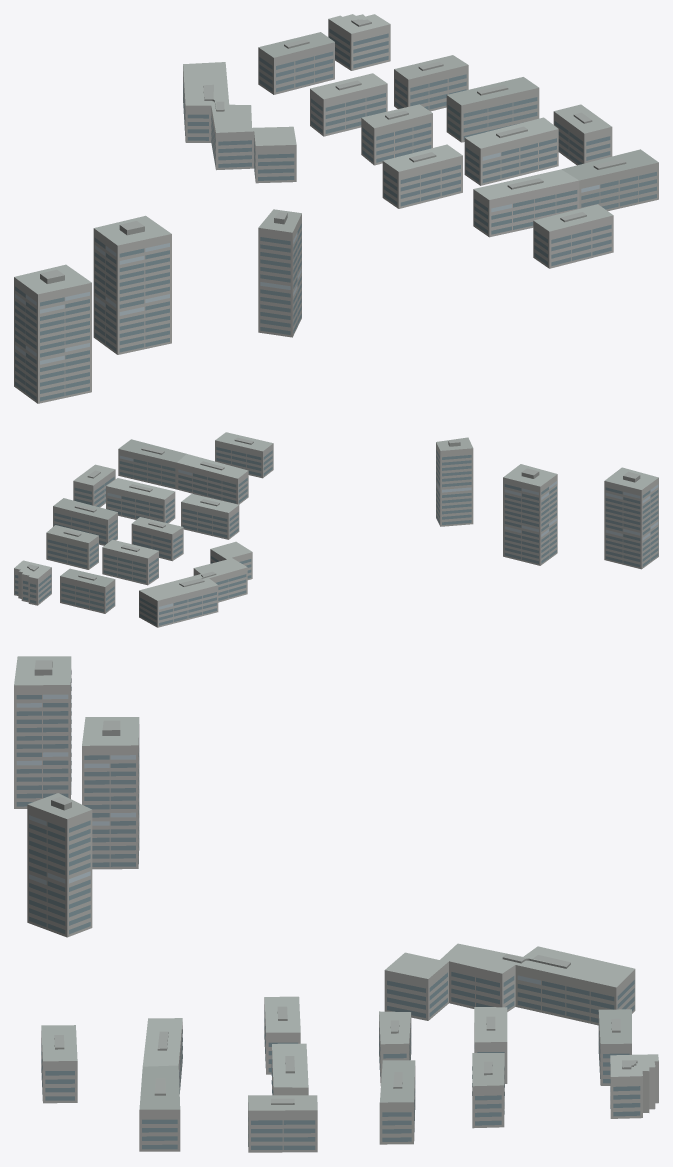
File: apt-a41279918.glb
3 views of the same model, one above another, from view 1: azimuth 30°, elevation 25°; view 2: azimuth 150°, elevation 25°; view 3: azimuth 270°, elevation 25° (orthographic). The views are drawn at different scales.
Visible parts, largest first — view 1: apt-a41279918; view 2: apt-a41279918; view 3: apt-a41279918.
Boxes of the visible parts, <box> form: apt-a41279918: <box>14,14,658,403</box>; apt-a41279918: <box>14,432,658,627</box>; apt-a41279918: <box>14,656,658,1152</box>.
Size of the model in its own units: 290 by 47 by 212.
